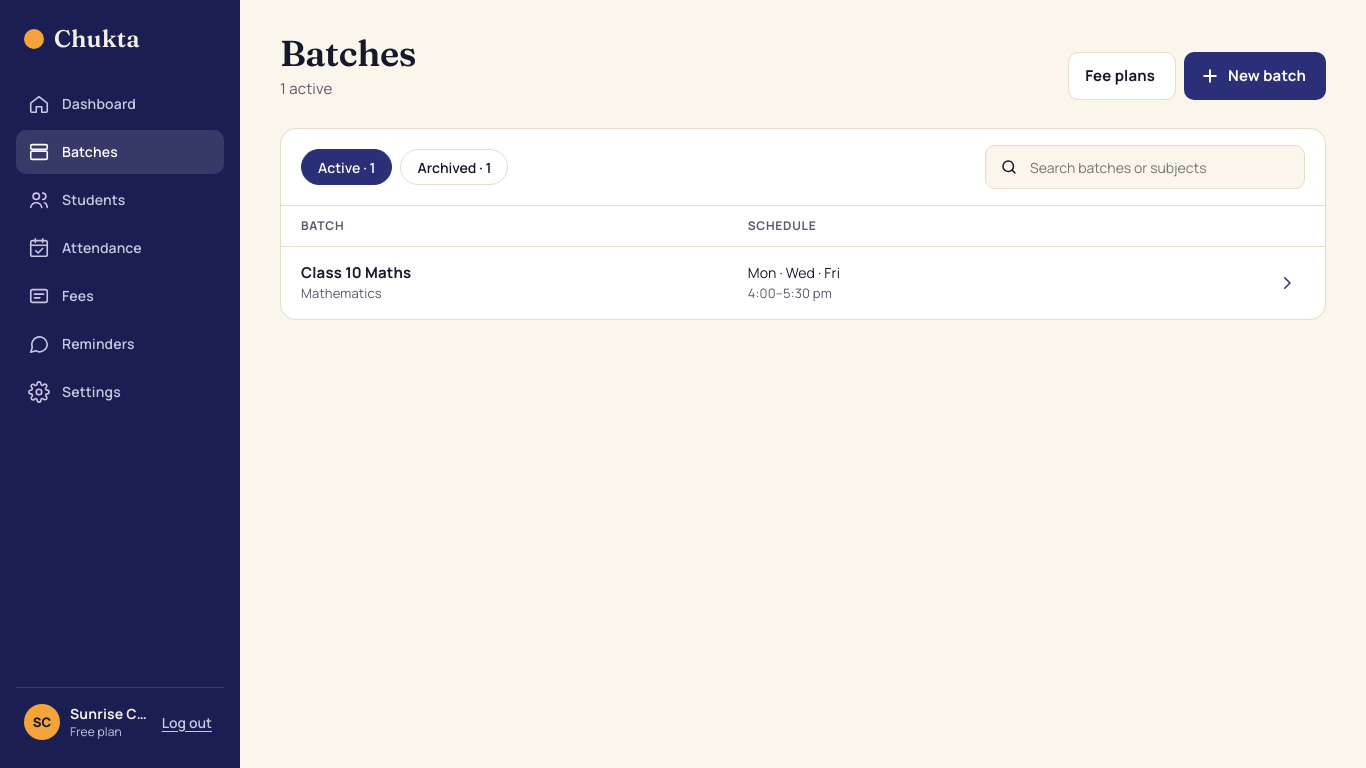
/batches › switches between active and archived batches, with counts
Expected: the link "Summer camp" is not shown
Click the button "Archived · 1" at (454, 167), box [400,149,508,185]
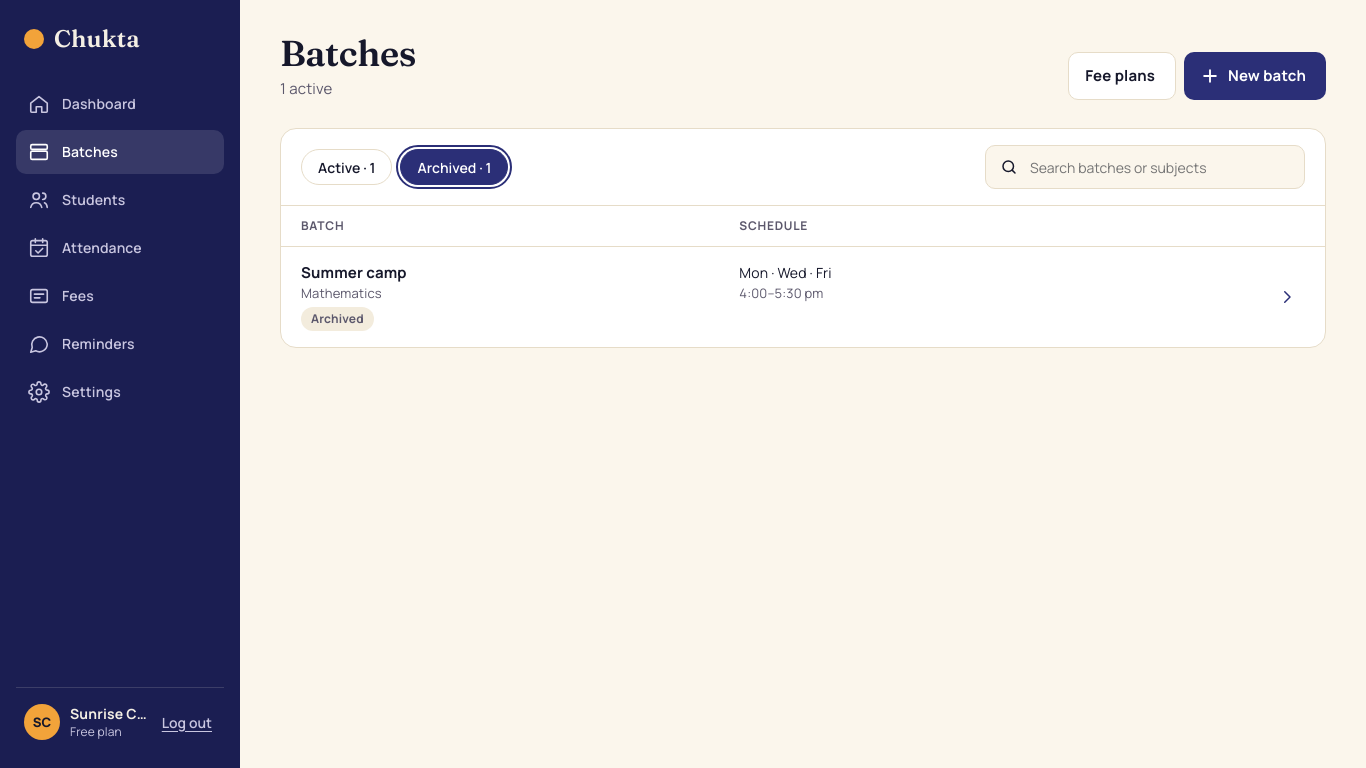
Result: the link "Summer camp" is shown at [301,262,407,283]
Result: the text "Archived" is shown at [301,307,374,331]
Result: the link "Class 10 Maths" is gone
